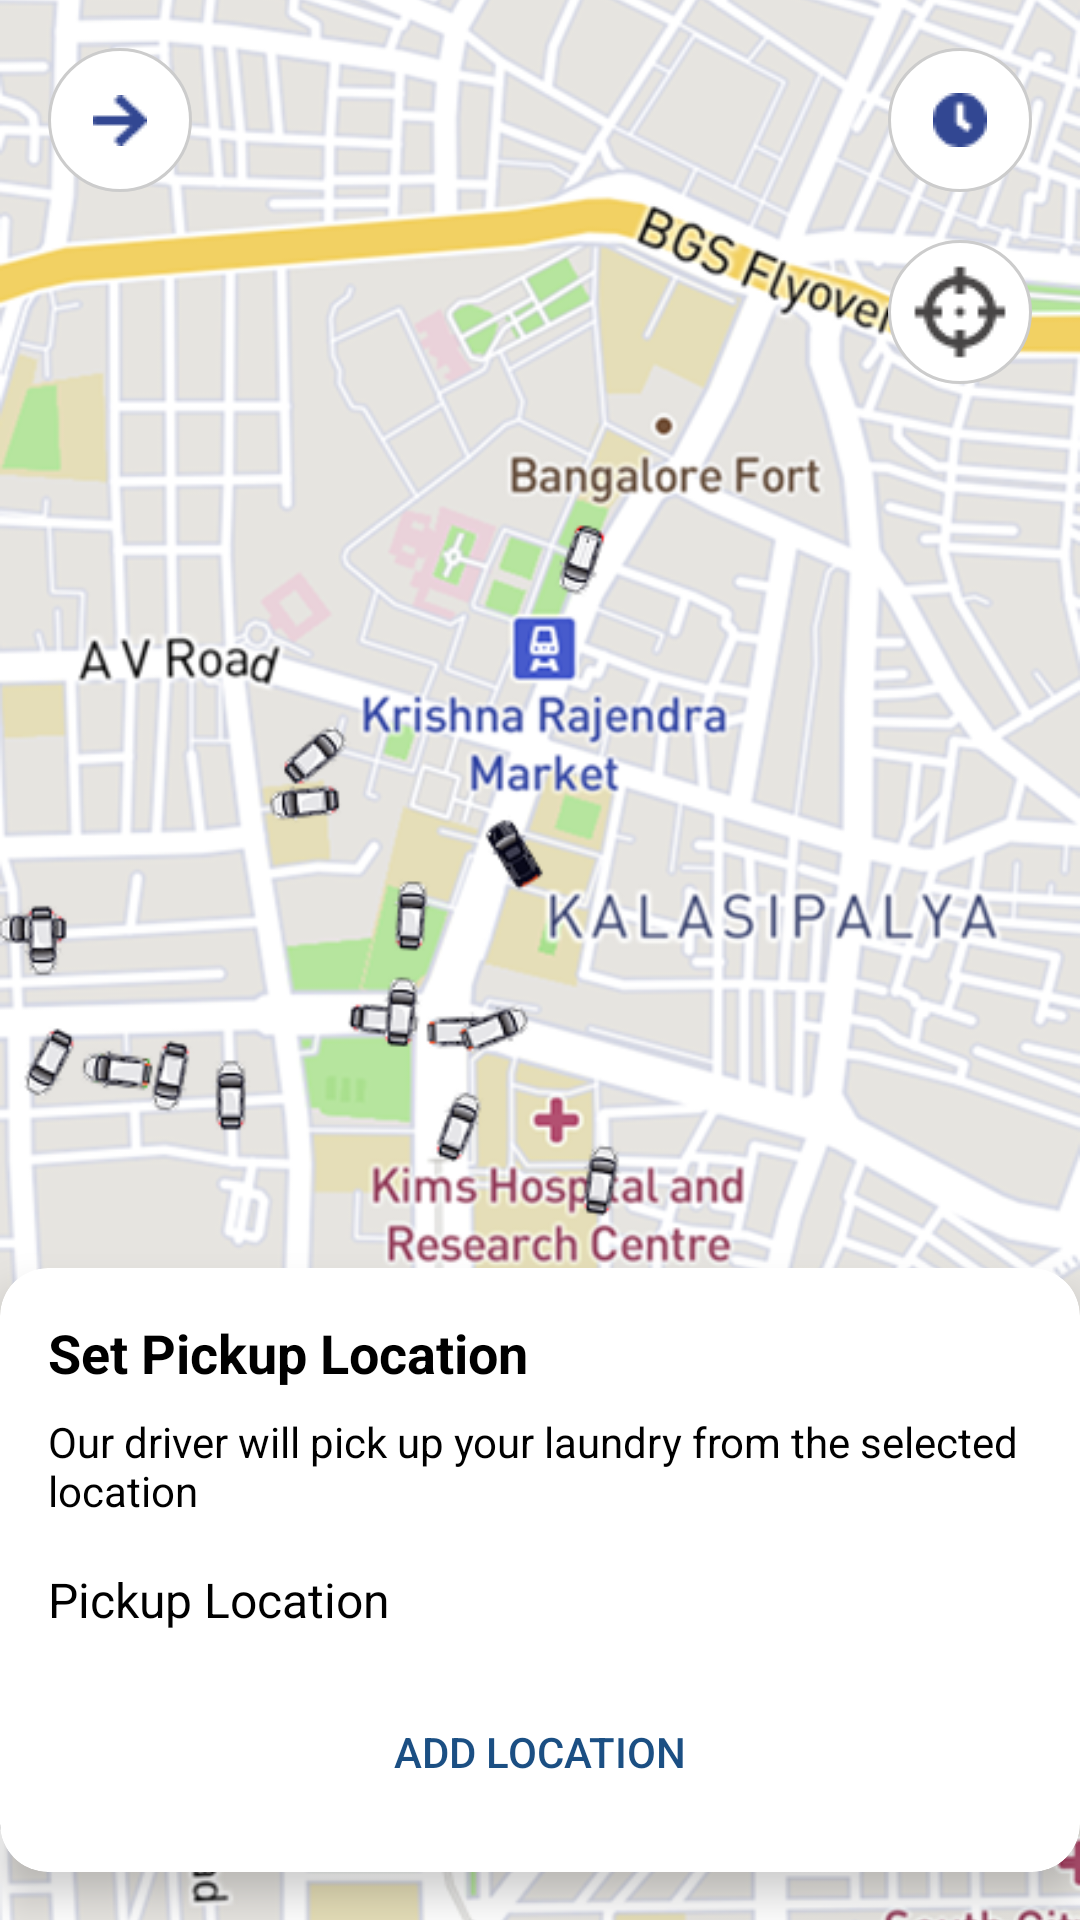

Screen size 1080px x 1920px. Icon name, then its center in pixels as (x,y):
arrow: (120,120)
recent: (960,120)
target: (960,312)
